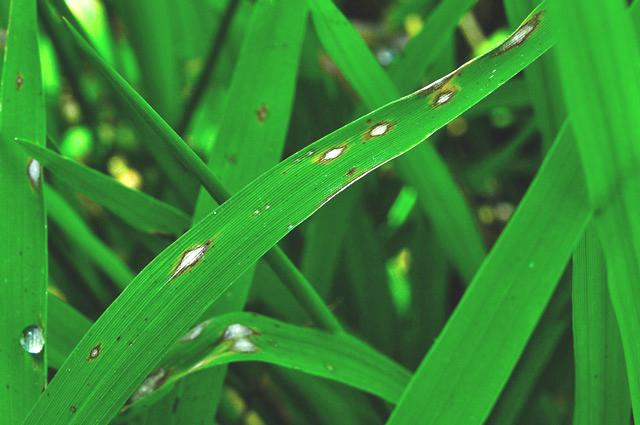1 RiceBlast: (487, 11, 542, 55), (169, 235, 214, 274), (317, 132, 346, 166), (428, 76, 460, 106), (365, 115, 402, 140), (24, 151, 47, 188)
